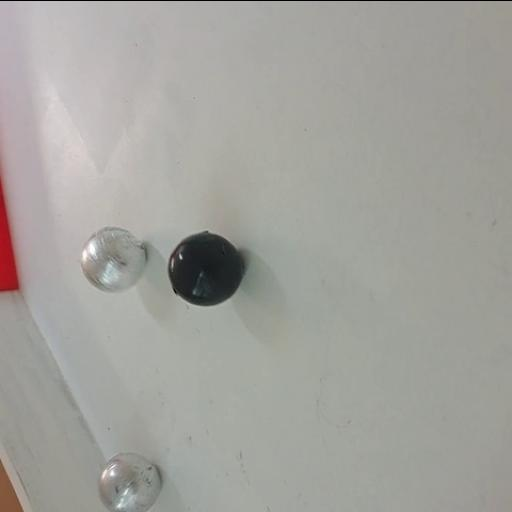alive: (80, 224, 148, 294), (97, 452, 160, 512)
dead: (166, 228, 244, 306)
